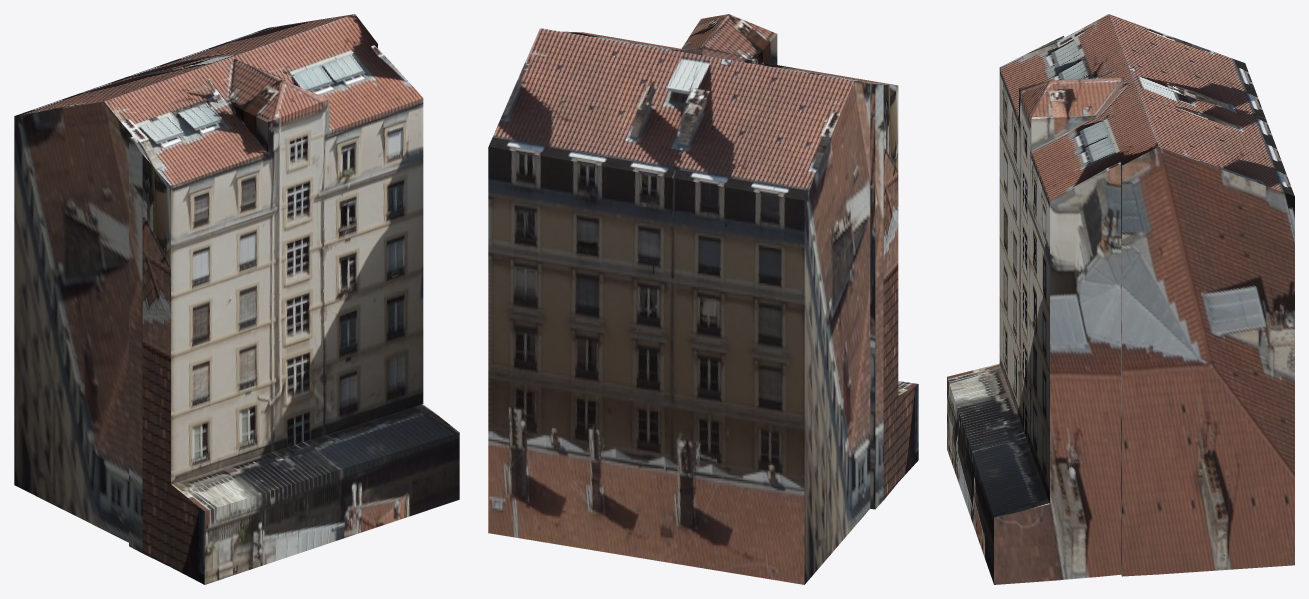
The picture shows the model from 3 angles, left to right: view 1: azimuth 30°, elevation 25°; view 2: azimuth 150°, elevation 25°; view 3: azimuth 270°, elevation 25°; orthographic projection. The views are drawn at different scales.
Parts seen in each view (by area): view 1: Z_UP; view 2: Z_UP; view 3: Z_UP.
Boxes of the visible parts, <box> form: Z_UP: <box>14,14,459,584</box>; Z_UP: <box>488,14,918,584</box>; Z_UP: <box>947,14,1294,584</box>.
Size of the model in its own units: 21.11 by 27.49 by 20.04.
2 materials, 1 textured.
